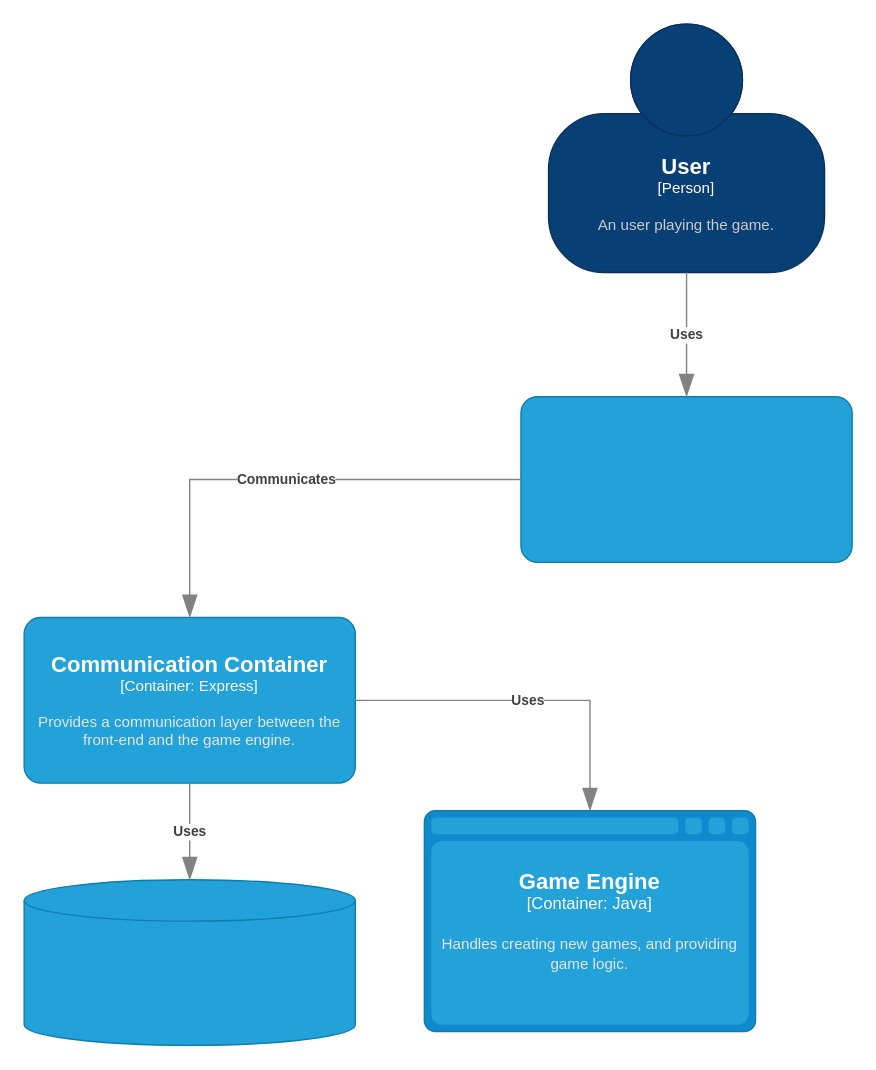
This 876x1070 diagram has some shape labels left out. The shapes that lost their labels are listed below. From the top down, each one's box as (x1, y1, x2, y2) in pixels, then its label:
(520, 395, 852, 562): Front-End [Container: Html Css Js] The frontend of the web game
(23, 878, 355, 1045): Database [Container: Database: MySQL] Database
